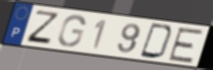1: (92, 19, 107, 50)
9: (116, 23, 142, 54)
D: (138, 22, 176, 61)
E: (166, 27, 206, 64)
G: (57, 14, 87, 48)
Z: (24, 9, 61, 46)
